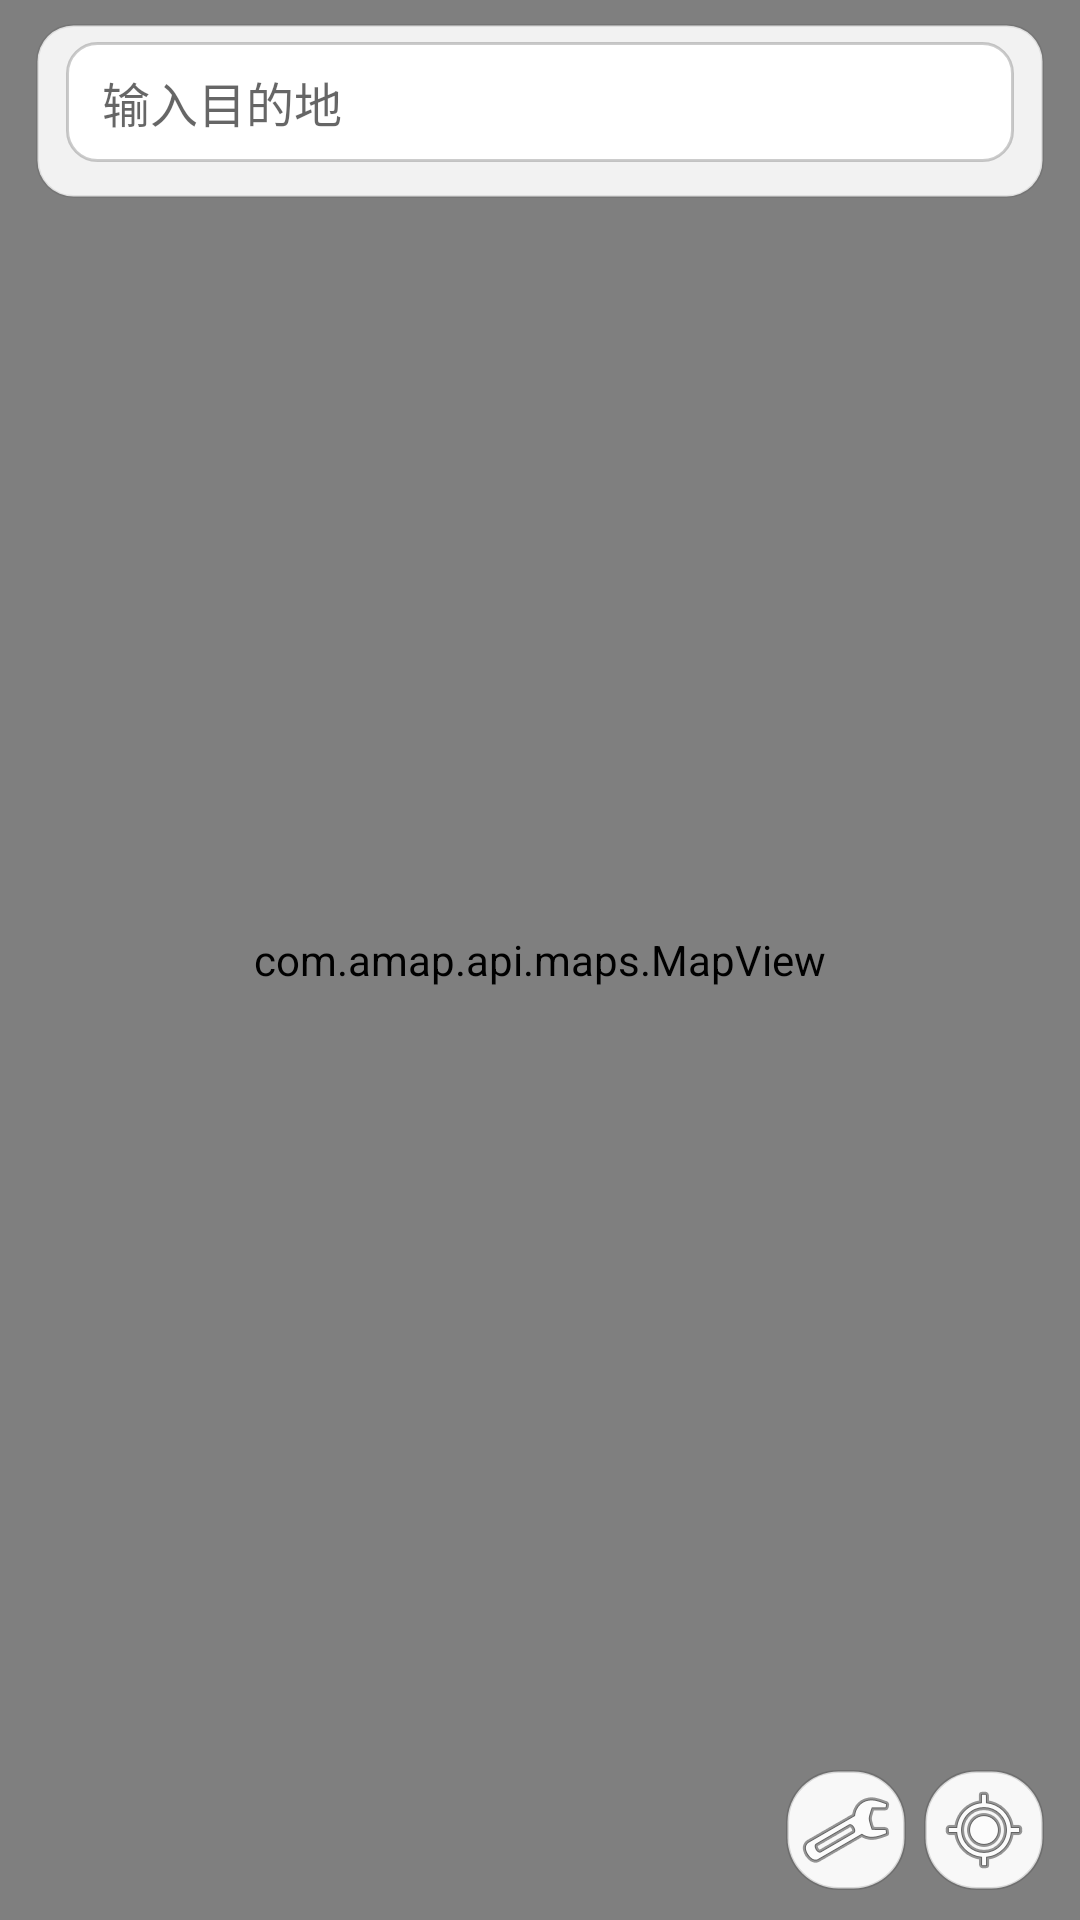

Locate icon controls on the screen. Image size 1080 x 1920, boxes as (x1, y1, x2, y2).
回到当前位置: (925, 1771, 1043, 1889)
设置: (787, 1771, 905, 1889)
